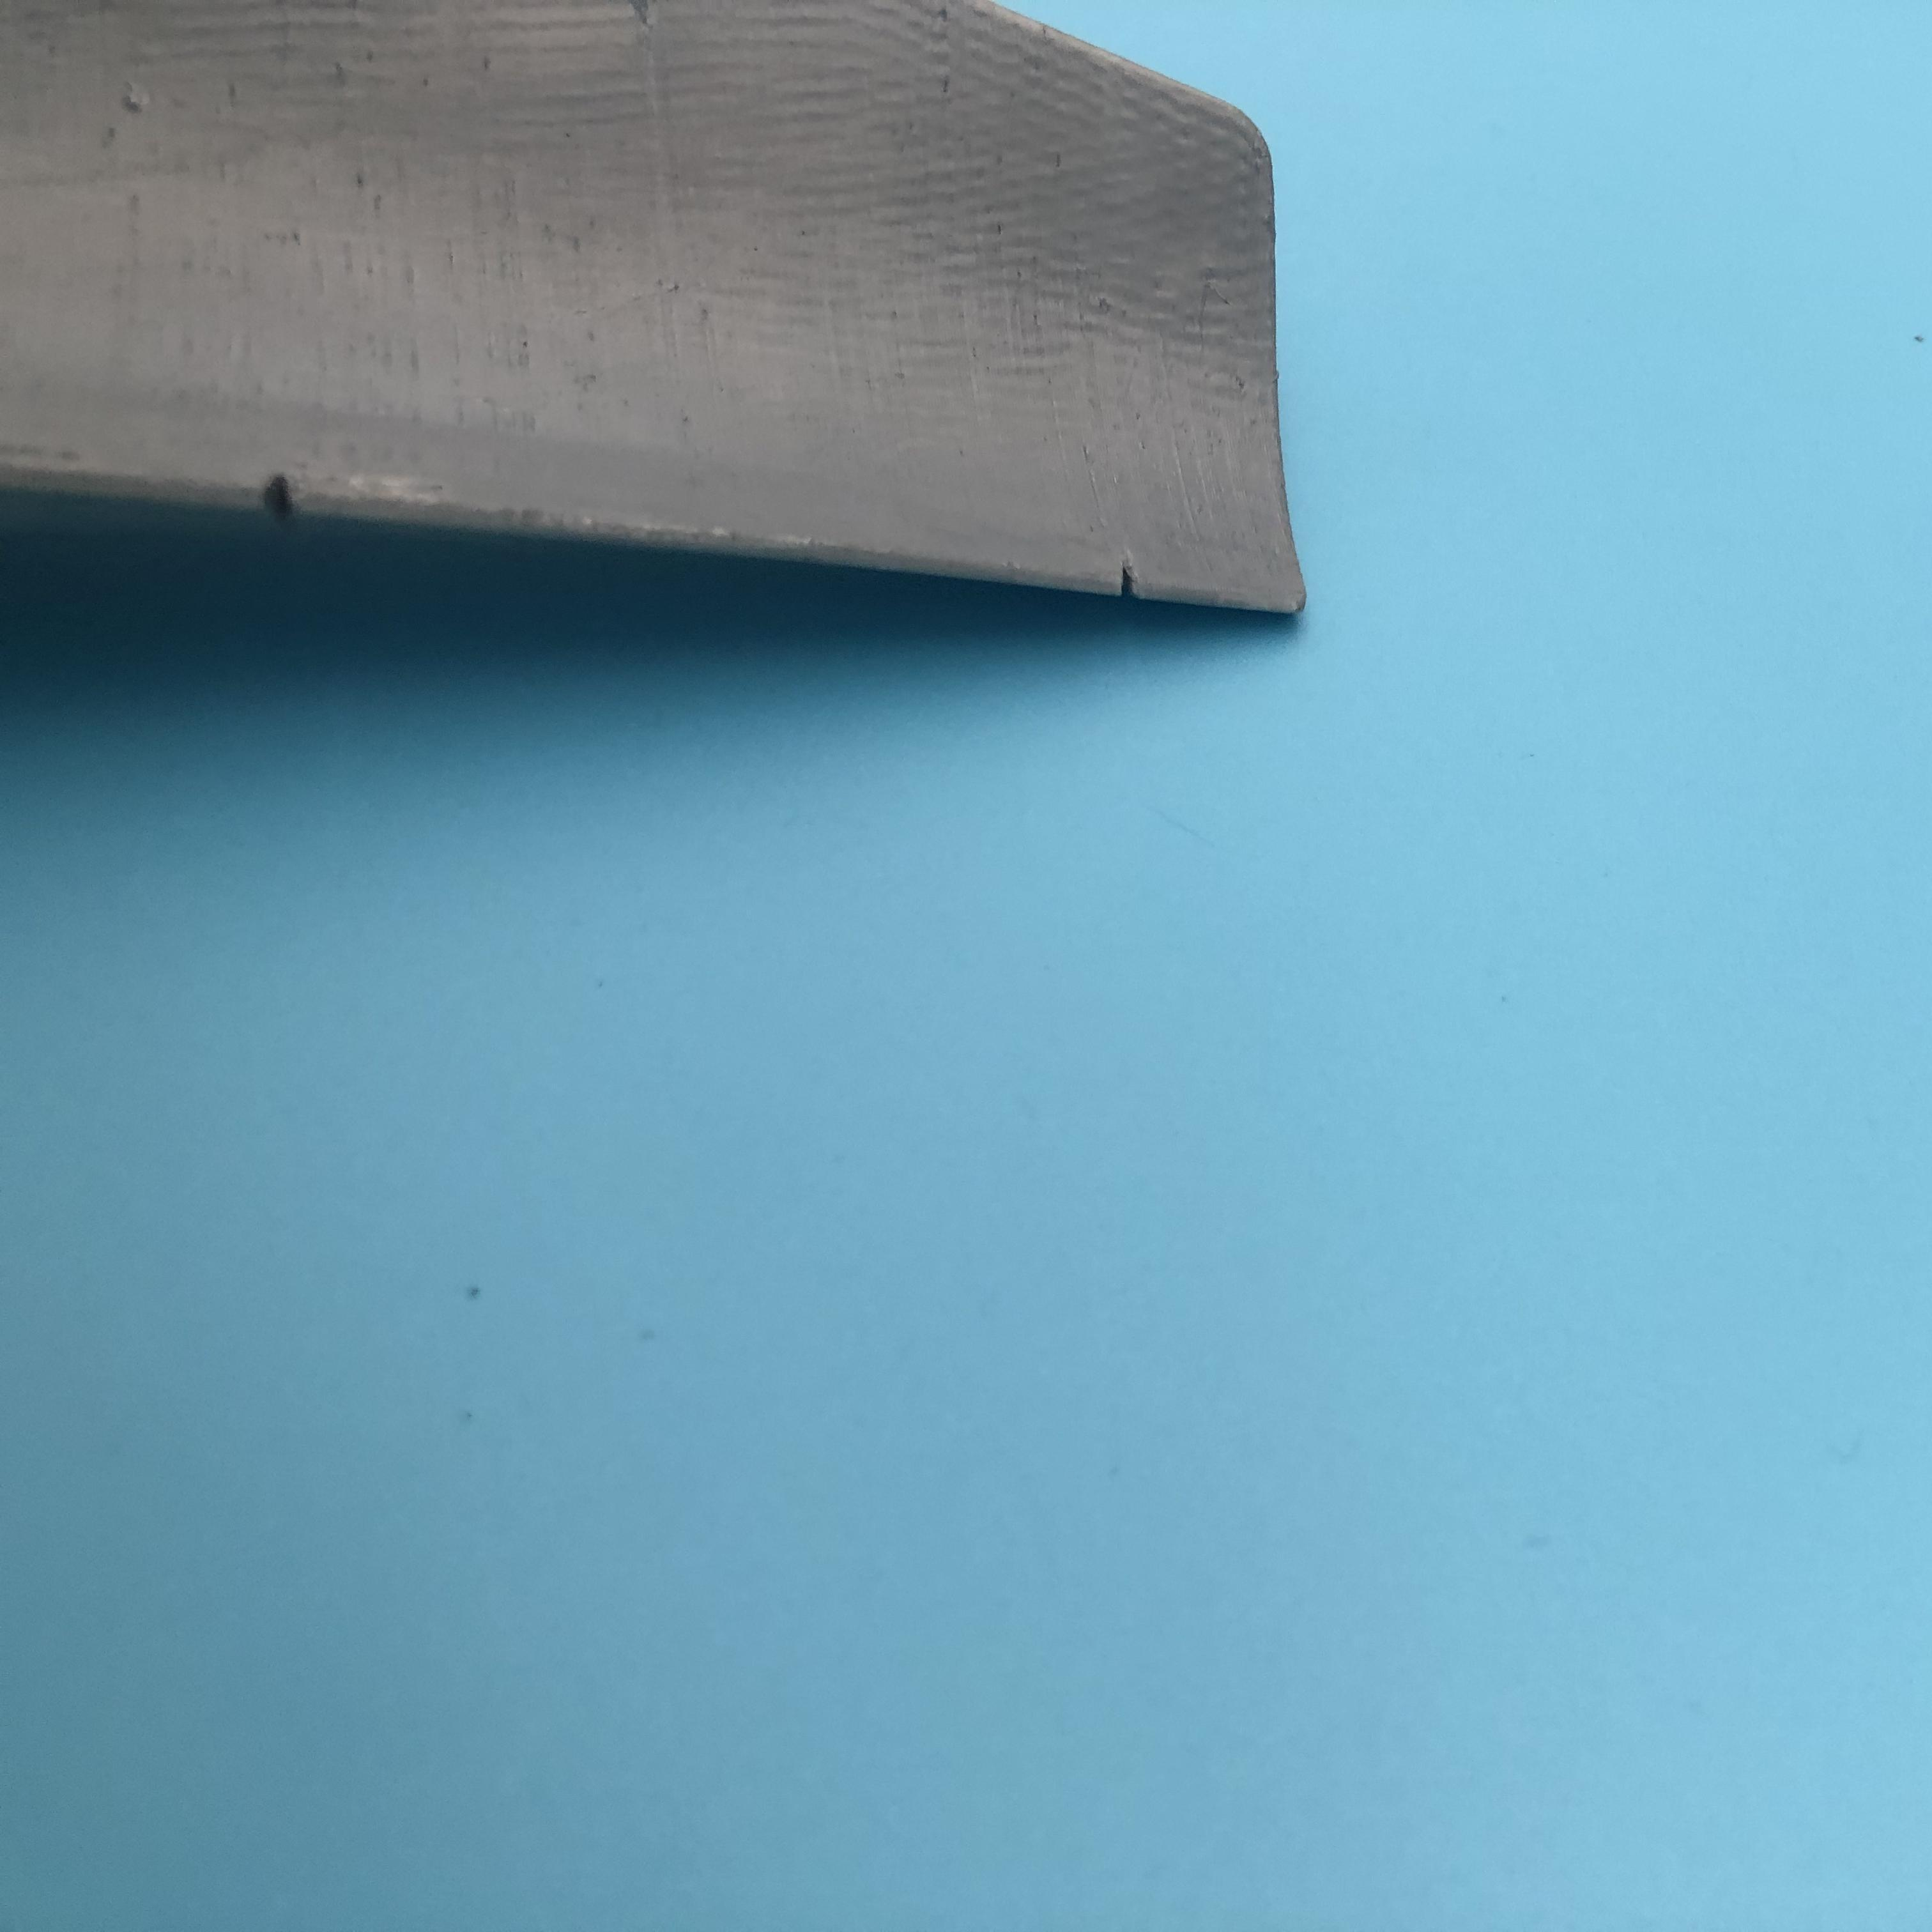groove: (249, 467, 313, 515), (1111, 561, 1146, 600)
